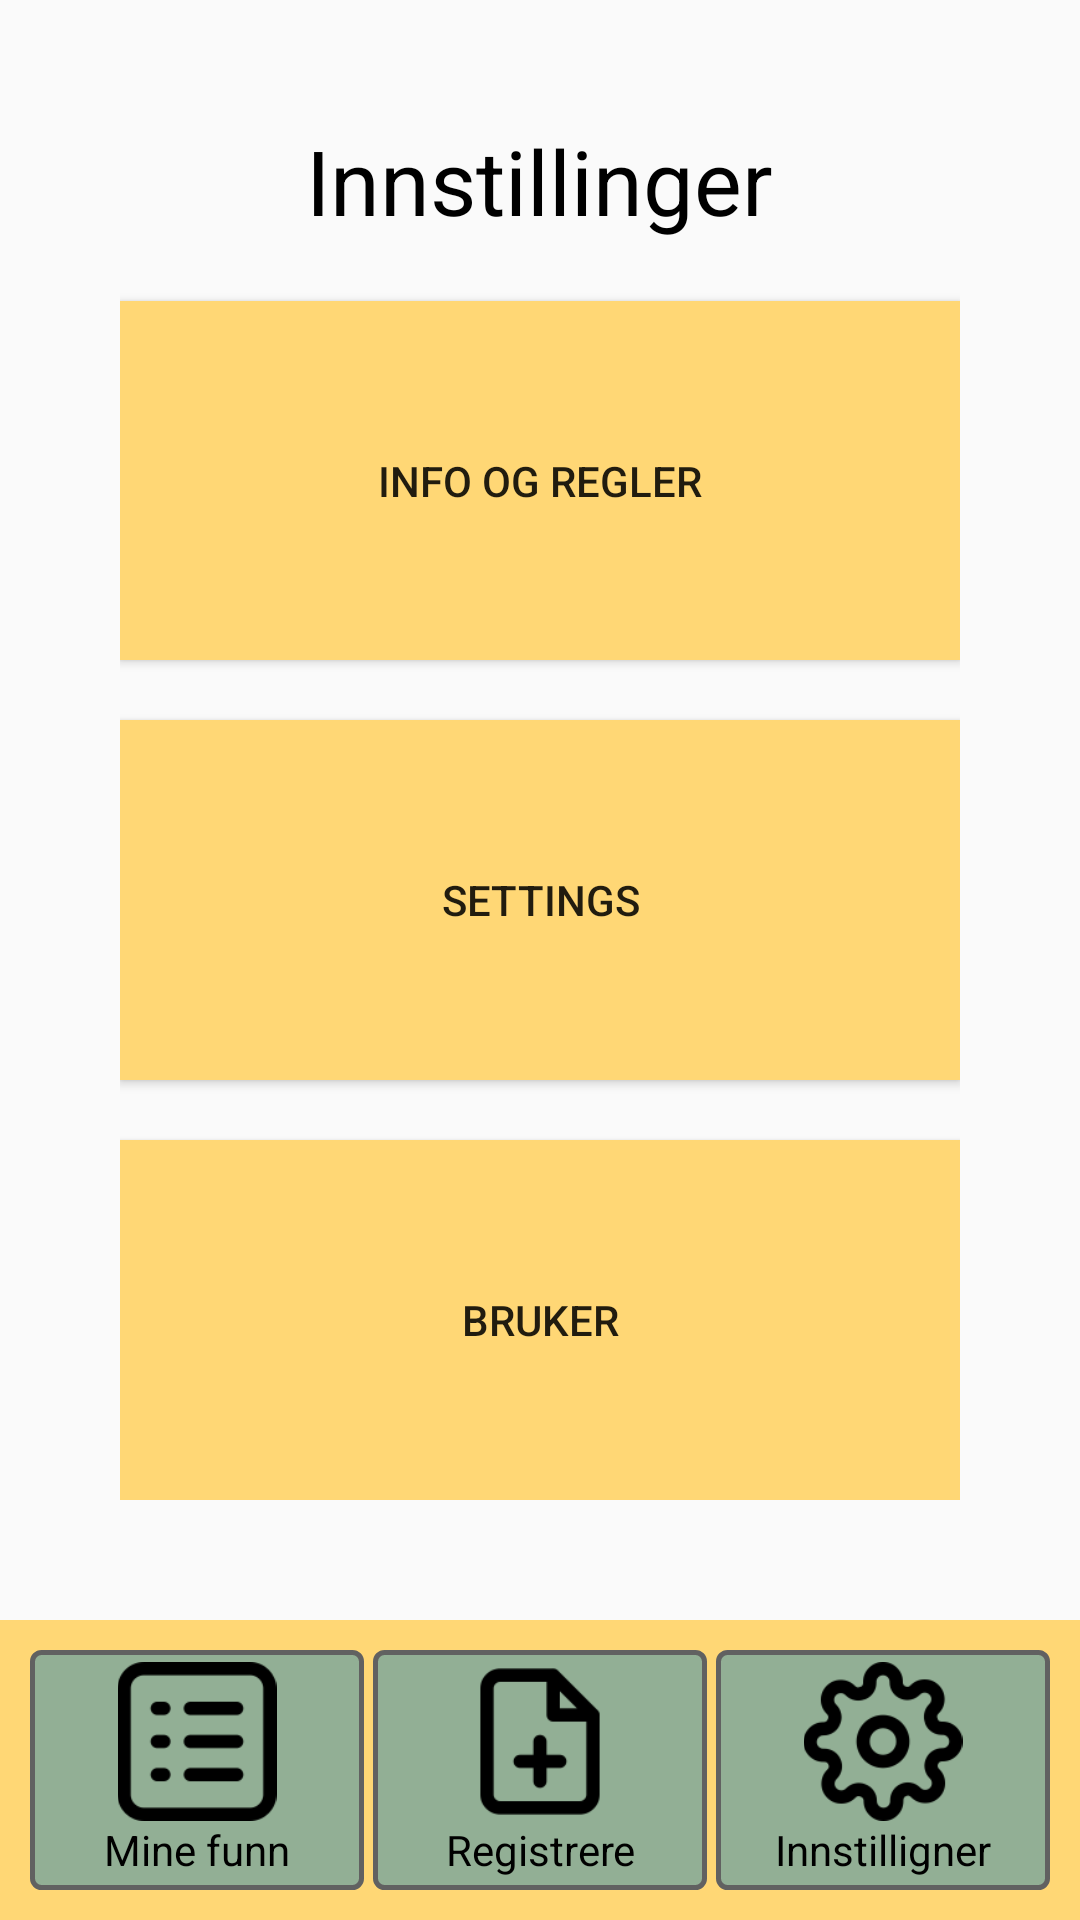

Icon bounding boxes for this 1080*1920 phone screenshot, format (x1, y1, x2, y2):
nytt funn: (480, 1668, 600, 1815)
